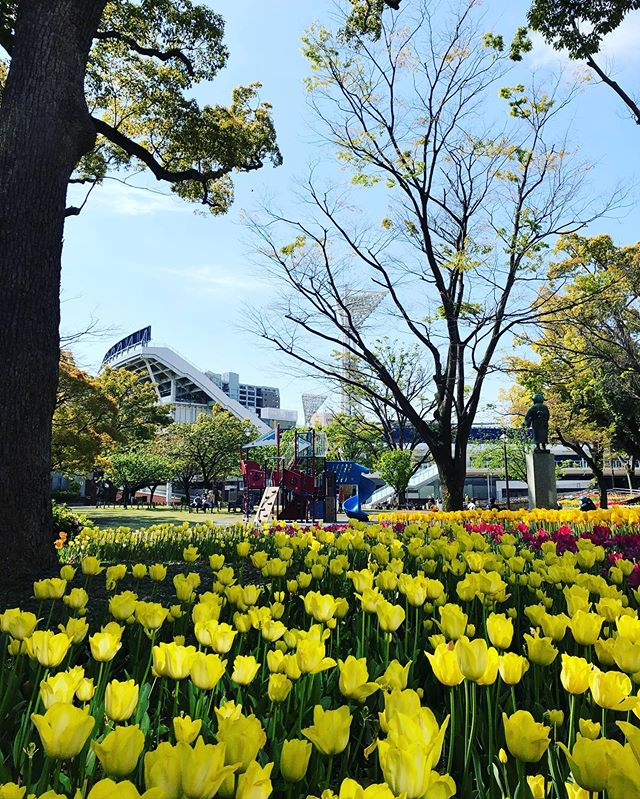building: (107, 333, 288, 432)
flowers: (1, 499, 640, 799)
sky: (133, 1, 640, 314)
tree: (254, 24, 561, 525), (511, 232, 640, 485), (50, 359, 249, 504)
